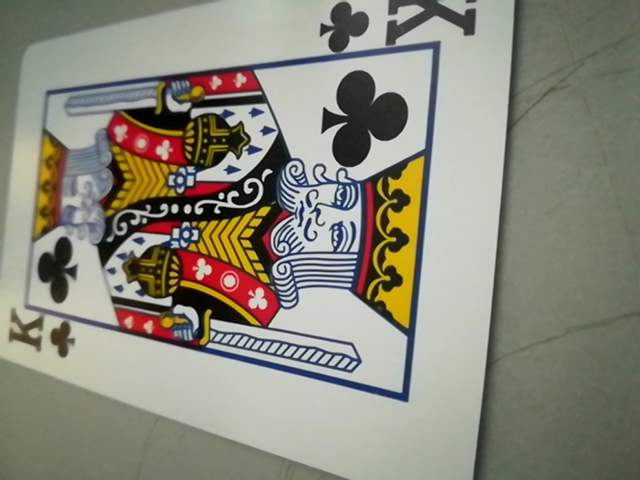mh k: (317, 0, 486, 56), (4, 303, 78, 361)
